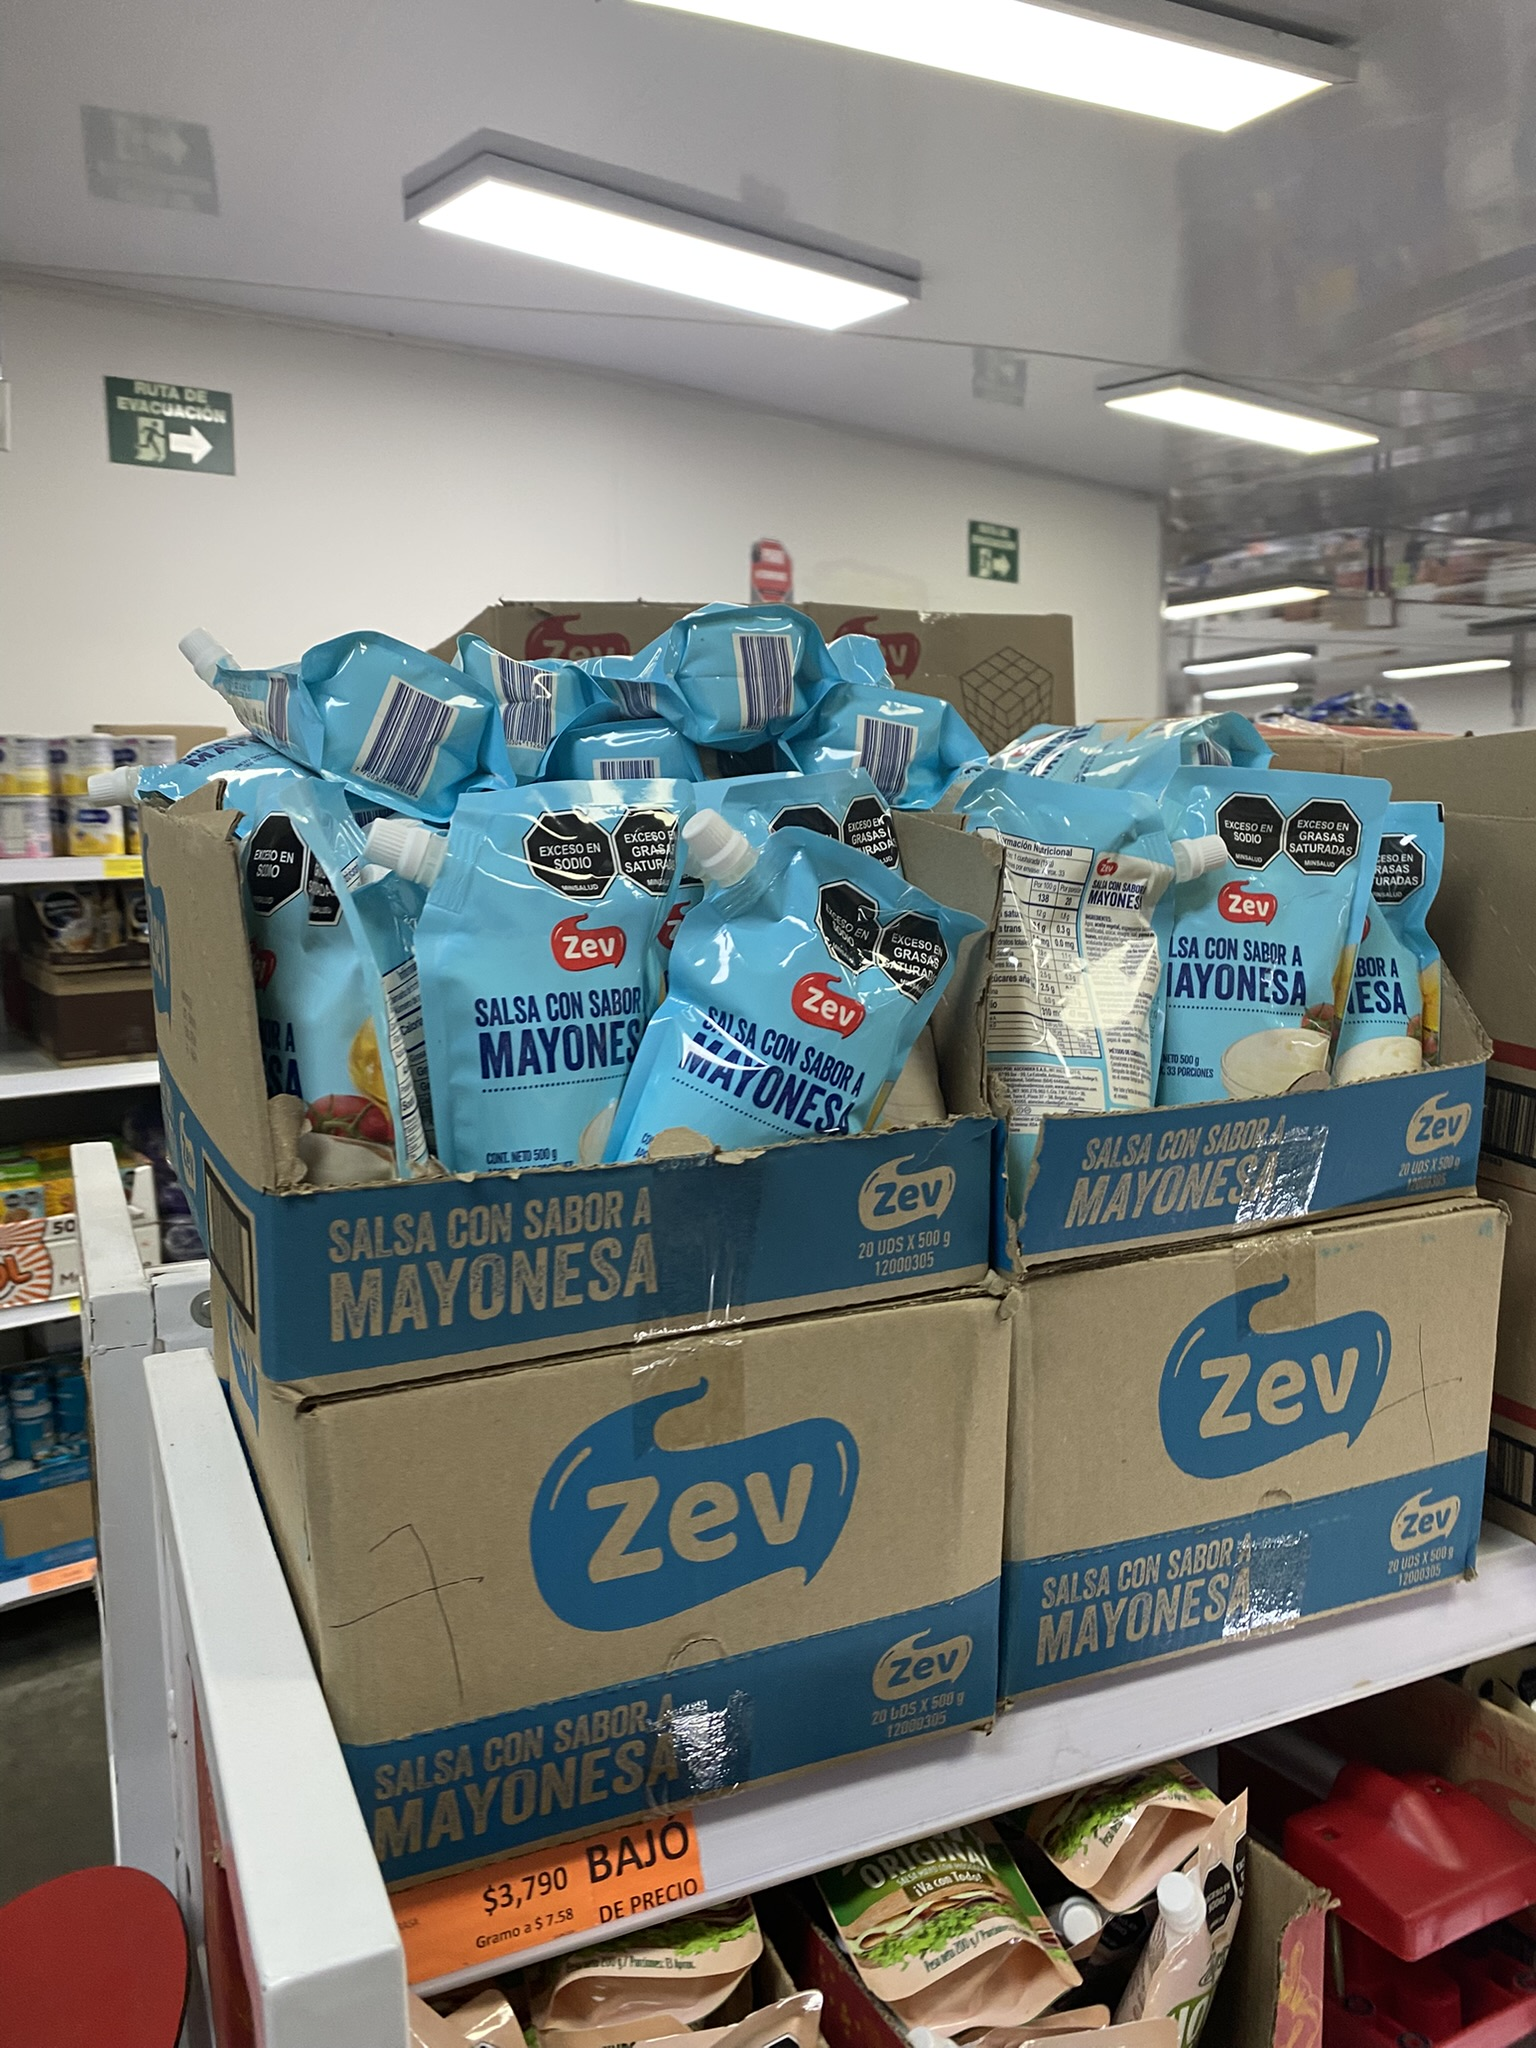Mayonesa: (603, 827, 981, 1184), (403, 776, 707, 1179), (957, 761, 1217, 1163), (1142, 774, 1399, 1113), (223, 798, 418, 1187), (177, 619, 487, 798)
